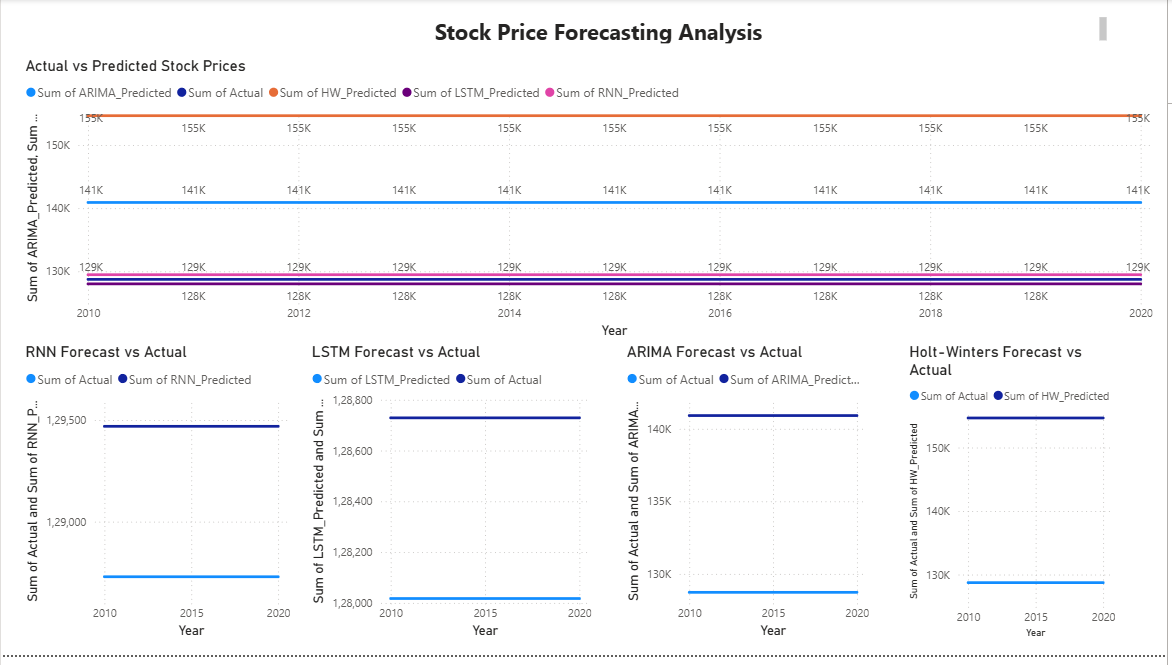

Layout of this report page (visuals, bound fields, positions):
{"tool":"powerbi","page":{"name":"Page 2","canvas":[1280,720],"ordinal":1},"visuals":[{"type":"lineChart","title":"Actual vs Predicted Stock Prices","fields":{"Category":["cleaned_tesla_stock.Date.Variation.Date Hierarchy.Year","cleaned_tesla_stock.Date.Variation.Date Hierarchy.Quarter","cleaned_tesla_stock.Date.Variation.Date Hierarchy.Month","cleaned_tesla_stock.Date.Variation.Date Hierarchy.Day"],"Y":["Sum(actual_vs_predicted.ARIMA_Predicted)","Sum(actual_vs_predicted.Actual)","Sum(actual_vs_predicted.HW_Predicted)","Sum(actual_vs_predicted.LSTM_Predicted)","Sum(actual_vs_predicted.RNN_Predicted)"]},"box":[22,63.1,1247.3,314.2],"z":0},{"type":"lineChart","title":"RNN Forecast vs Actual","fields":{"Category":["cleaned_tesla_stock.Date.Variation.Date Hierarchy.Year","cleaned_tesla_stock.Date.Variation.Date Hierarchy.Quarter","cleaned_tesla_stock.Date.Variation.Date Hierarchy.Month","cleaned_tesla_stock.Date.Variation.Date Hierarchy.Day"],"Y":["Sum(actual_vs_predicted.Actual)","Sum(actual_vs_predicted.RNN_Predicted)"]},"box":[22,377.4,300.5,329.3],"z":1},{"type":"lineChart","title":"LSTM Forecast vs Actual","fields":{"Category":["cleaned_tesla_stock.Date.Variation.Date Hierarchy.Year","cleaned_tesla_stock.Date.Variation.Date Hierarchy.Quarter","cleaned_tesla_stock.Date.Variation.Date Hierarchy.Month","cleaned_tesla_stock.Date.Variation.Date Hierarchy.Day"],"Y":["Sum(actual_vs_predicted.LSTM_Predicted)","Sum(actual_vs_predicted.Actual)"]},"box":[336.2,377.4,317,329.3],"z":2},{"type":"lineChart","title":"ARIMA Forecast vs Actual","fields":{"Category":["cleaned_tesla_stock.Date.Variation.Date Hierarchy.Year","cleaned_tesla_stock.Date.Variation.Date Hierarchy.Quarter","cleaned_tesla_stock.Date.Variation.Date Hierarchy.Month","cleaned_tesla_stock.Date.Variation.Date Hierarchy.Day"],"Y":["Sum(actual_vs_predicted.Actual)","Sum(actual_vs_predicted.ARIMA_Predicted)"]},"box":[682,377.4,275.8,329.3],"z":3},{"type":"lineChart","title":"Holt-Winters Forecast vs Actual","fields":{"Category":["cleaned_tesla_stock.Date.Variation.Date Hierarchy.Year","cleaned_tesla_stock.Date.Variation.Date Hierarchy.Quarter","cleaned_tesla_stock.Date.Variation.Date Hierarchy.Month","cleaned_tesla_stock.Date.Variation.Date Hierarchy.Day"],"Y":["Sum(actual_vs_predicted.Actual)","Sum(actual_vs_predicted.HW_Predicted)"]},"box":[992.1,377.4,236,329.3],"z":4},{"type":"textbox","box":[100.2,15.1,1118.4,38.4],"z":5}]}

Visuals, with their boxes in screenshot pixels (x1, y1, x2, y2), scaled from the page's 1280x720 canvas onto the 1172x665 screenshot:
"Actual vs Predicted Stock Prices" lineChart: <bbox>20, 58, 1162, 348</bbox>
"RNN Forecast vs Actual" lineChart: <bbox>20, 349, 295, 653</bbox>
"LSTM Forecast vs Actual" lineChart: <bbox>308, 349, 598, 653</bbox>
"ARIMA Forecast vs Actual" lineChart: <bbox>624, 349, 877, 653</bbox>
"Holt-Winters Forecast vs Actual" lineChart: <bbox>908, 349, 1124, 653</bbox>
textbox: <bbox>92, 14, 1116, 49</bbox>
